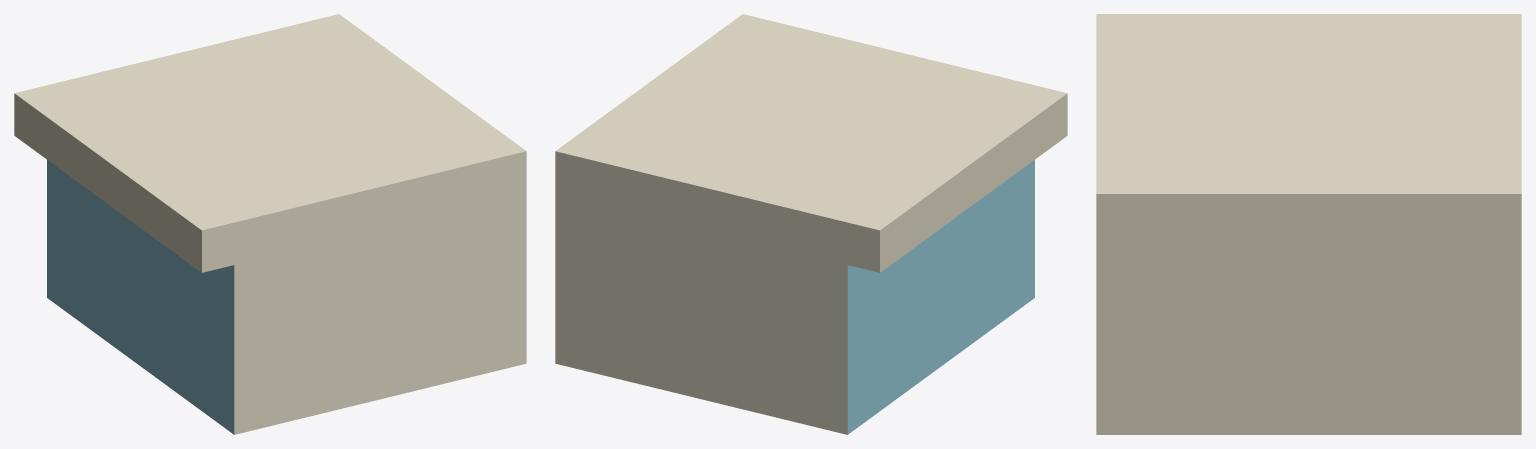
The model's file is modularBuildings_070.obj.
3 views of the same model, side by side, from view 1: azimuth 30°, elevation 25°; view 2: azimuth 150°, elevation 25°; view 3: azimuth 270°, elevation 25° (orthographic). The views are drawn at different scales.
Visible parts, largest first — view 1: Mesh1 Group1 Model; view 2: Mesh1 Group1 Model; view 3: Mesh1 Group1 Model.
Part boxes in pixels (x1=…): Mesh1 Group1 Model: x1=14, y1=14, x2=526, y2=434; Mesh1 Group1 Model: x1=555, y1=14, x2=1067, y2=434; Mesh1 Group1 Model: x1=1096, y1=14, x2=1521, y2=434.
Bounding box in the file's own units: 1 × 0.625 × 1.
